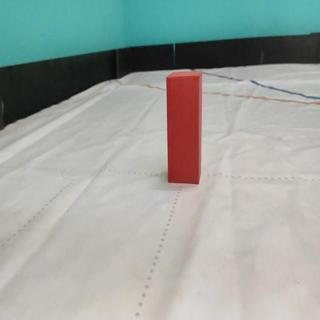redbox: (165, 70, 202, 185)
